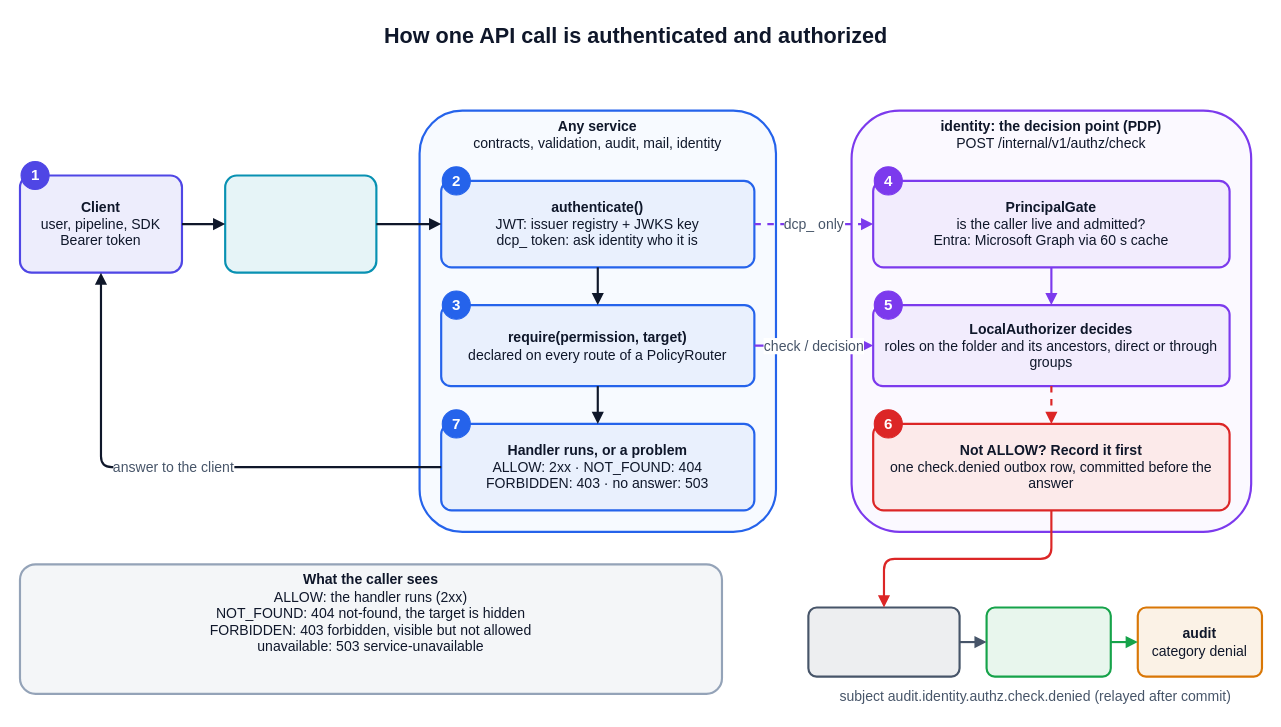
The diagram is 1281 pixels wide and 727 high, and some of its shapes have lost their labels. The shapes that lost their labels are listed below. From the top down, each one's centre as x and y in pixels, then its label:
point 300,223: Gateway Traefik: routes, TLS, rate limit no authentication
point 883,641: Postgres identity DB: outbox
point 1048,641: NATS AUDIT stream
